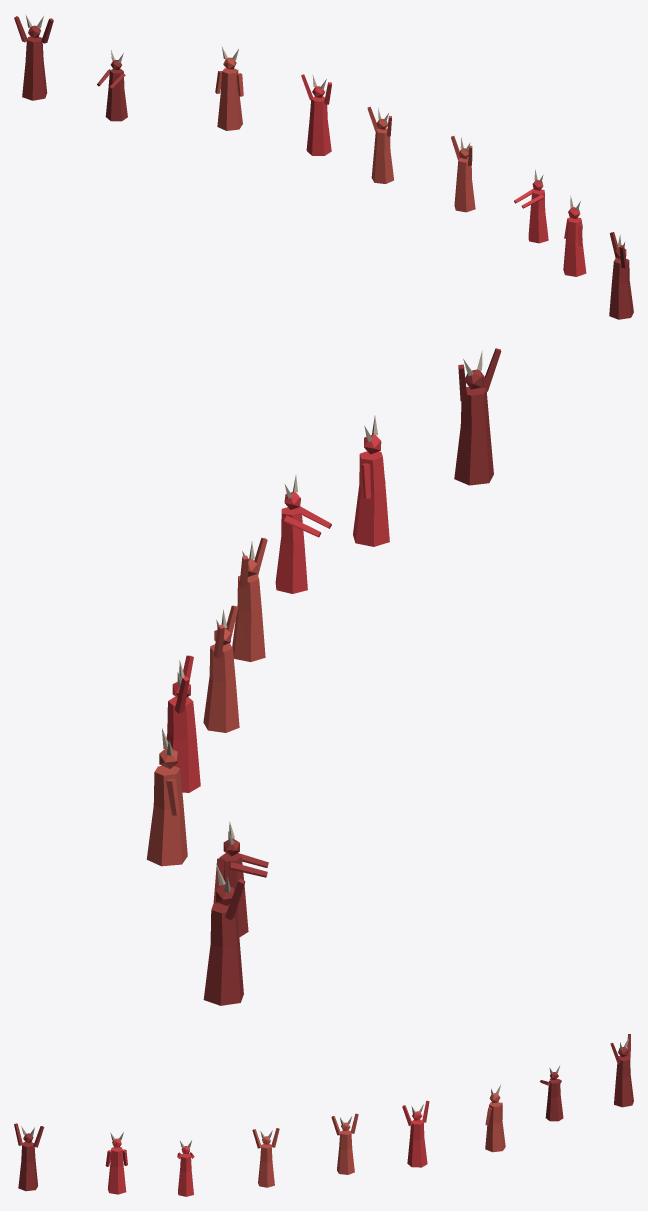
Rendered from Stands_5_1_1_Ice.obj.
3 views of the same model, one above another, from view 1: azimuth 30°, elevation 25°; view 2: azimuth 150°, elevation 25°; view 3: azimuth 270°, elevation 25° (orthographic). The views are drawn at different scales.
Visible parts, largest first — view 1: Stands_5_1_1_Ice; view 2: Stands_5_1_1_Ice; view 3: Stands_5_1_1_Ice.
Boxes of the visible parts, box(x1,y1,x2,y2) form: Stands_5_1_1_Ice: box(14, 14, 633, 319); Stands_5_1_1_Ice: box(146, 348, 501, 1005); Stands_5_1_1_Ice: box(14, 1034, 633, 1196).
Bounding box in the file's own units: 13.38 × 3.98 × 34.88.
Materials: 1 (1 with a texture image).
